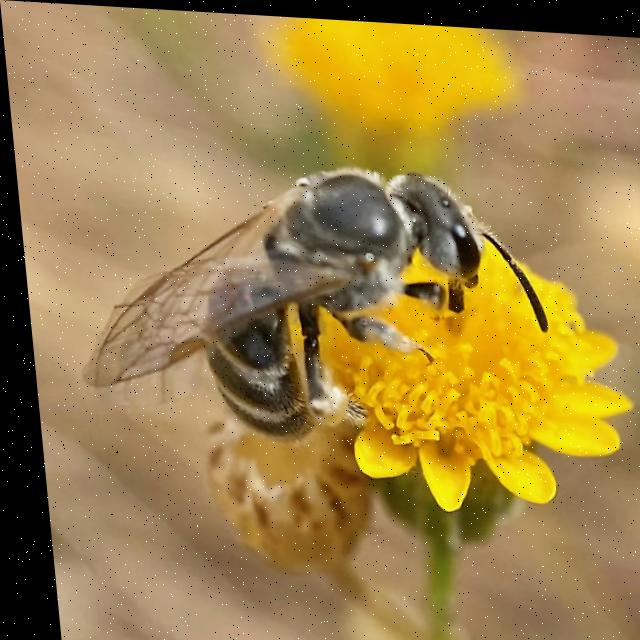Lasioglossum: (77, 136, 527, 454)
